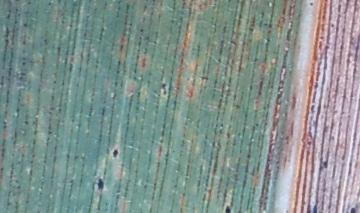tarspot: (96, 176, 105, 191), (160, 82, 168, 97), (110, 146, 119, 159), (322, 158, 328, 169), (224, 204, 231, 213), (312, 204, 318, 213), (307, 1, 315, 7), (329, 22, 335, 29), (350, 207, 355, 213)
